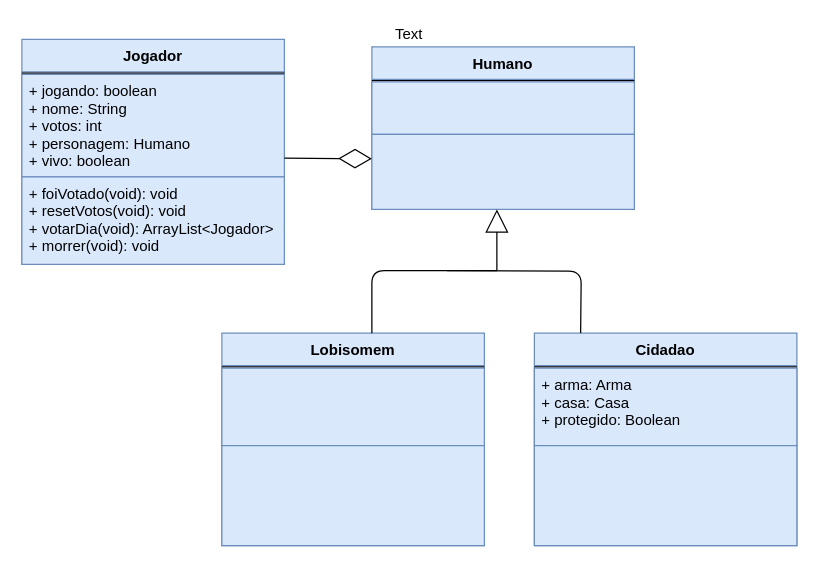
Some shapes in this 819 by 570 pixel diagram are drawn without their labels. Here are the shapes that lost their labels. From the top down, the centre of each, then its label:
[502,107]: + vida: int + nomeClasse: String
[502,171]: + perderVida(int): void + curar(int): void + darDano(Humano): void
[665,495]: + darDano(void): Humano + seProteger(void): void + aprimorarArma(void): void
